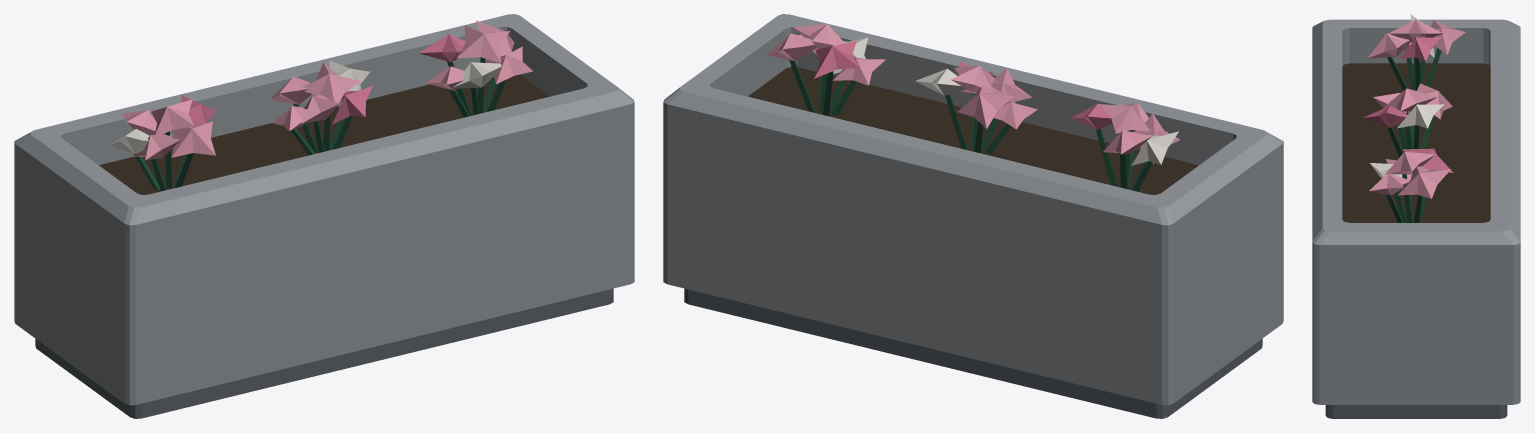
Rendered from flower-planter-550bfb.glb.
3 renders of one model, left to right at view 1: azimuth 30°, elevation 25°; view 2: azimuth 150°, elevation 25°; view 3: azimuth 270°, elevation 25°, orthographic. The views are drawn at different scales.
Parts seen in each view (by area): view 1: planter-box, blossom-cluster; view 2: planter-box, blossom-cluster; view 3: planter-box, blossom-cluster.
Boxes of the visible parts, <box> form: planter-box: <box>14,14,634,418</box>; blossom-cluster: <box>110,20,532,191</box>; planter-box: <box>663,14,1283,418</box>; blossom-cluster: <box>766,24,1180,191</box>; planter-box: <box>1312,19,1520,418</box>; blossom-cluster: <box>1362,14,1465,222</box>.
Size of the model in its own units: 1 by 0.484 by 0.4.
